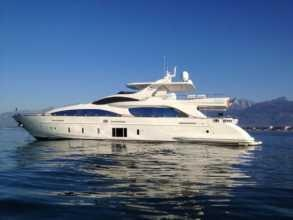yacht: (10, 73, 267, 146)
